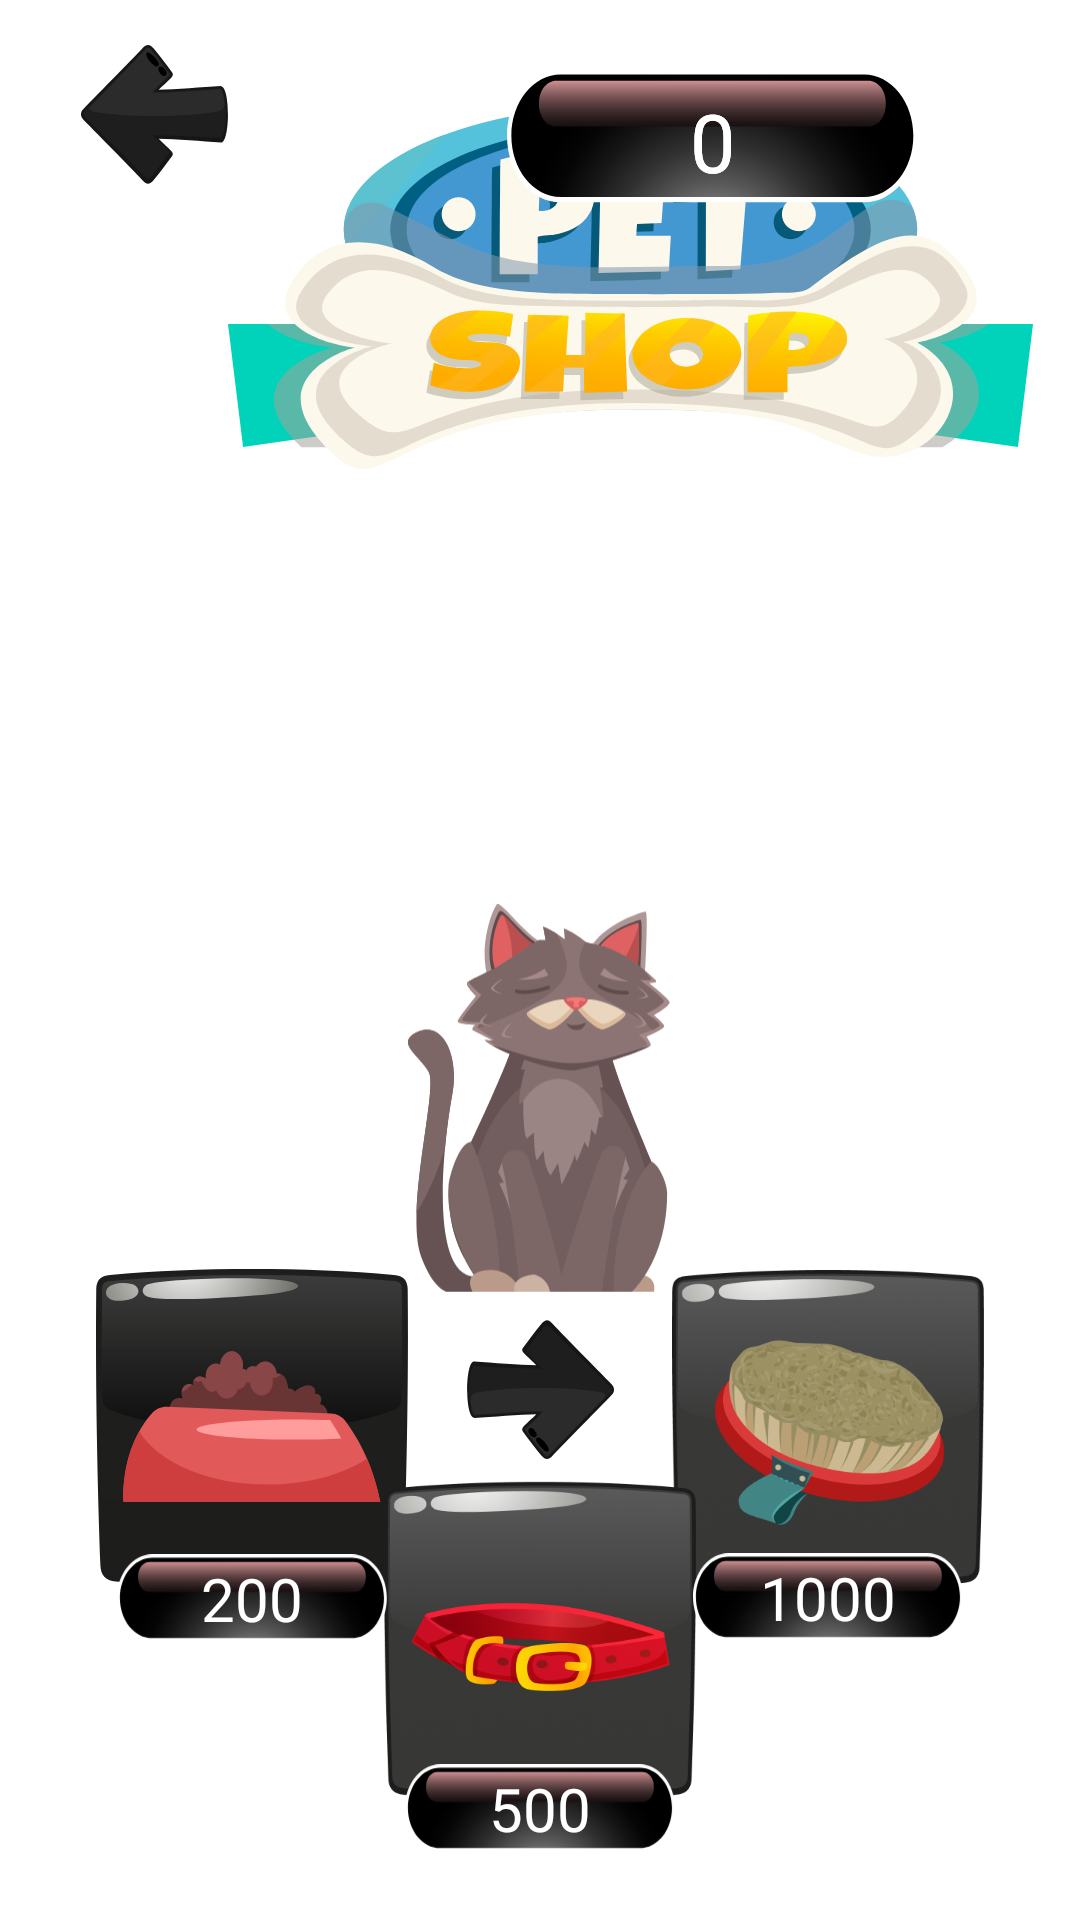

Screen size 1080w x 1920h. Icon name, then its center in pixels as (x=x, y=y):
bowl: (x=252, y=1429)
brush: (x=828, y=1429)
collar: (x=540, y=1640)
